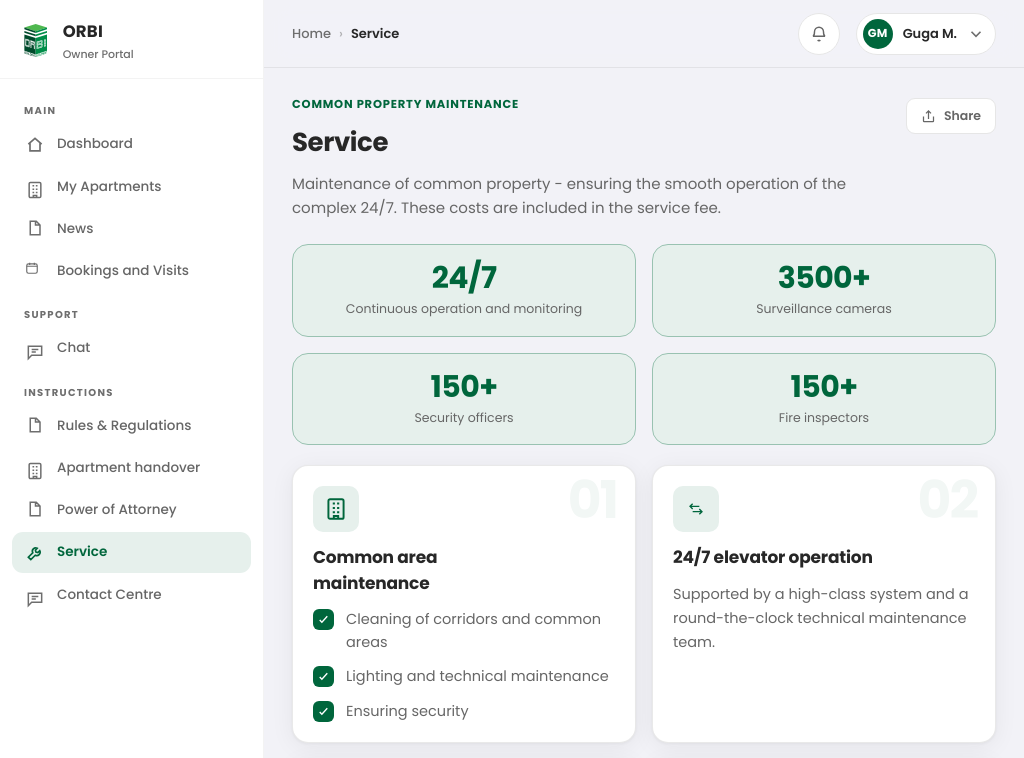
Test: the guide share button › no clipboard: the link itself is shown
The image size is (1024, 758).
Click the button with aria-label "share link": point(951, 116) [906,98,996,134]
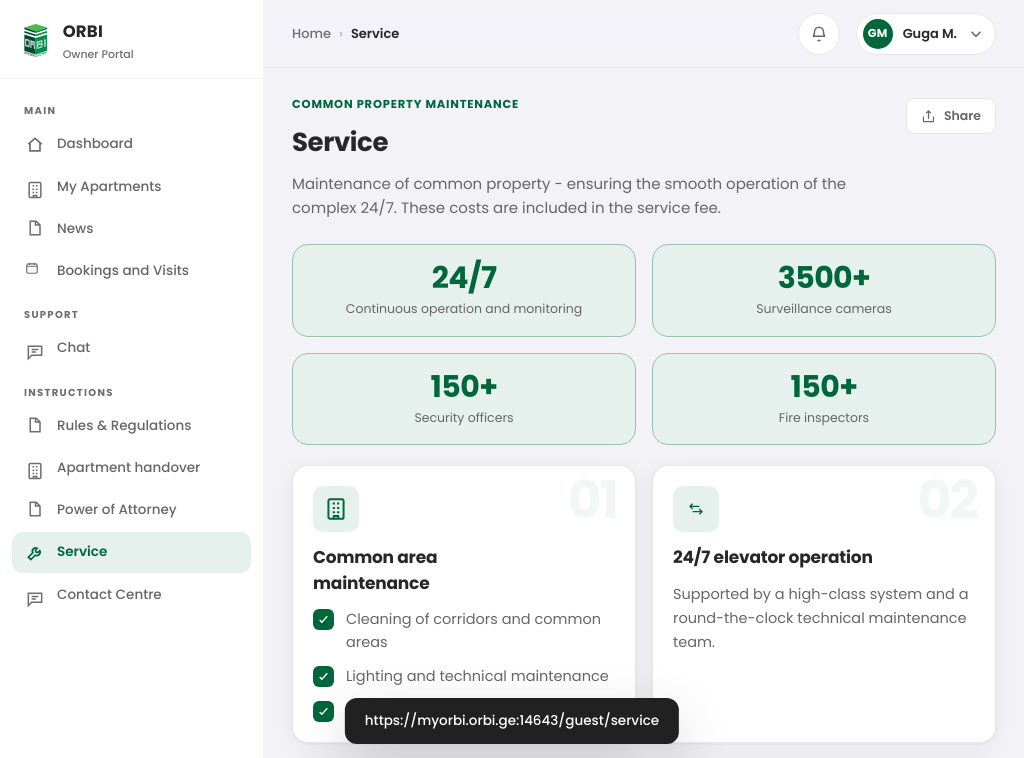
Expected: the text "https://myorbi.orbi.ge:14643/guest/service" is shown, [345,698,679,744]
